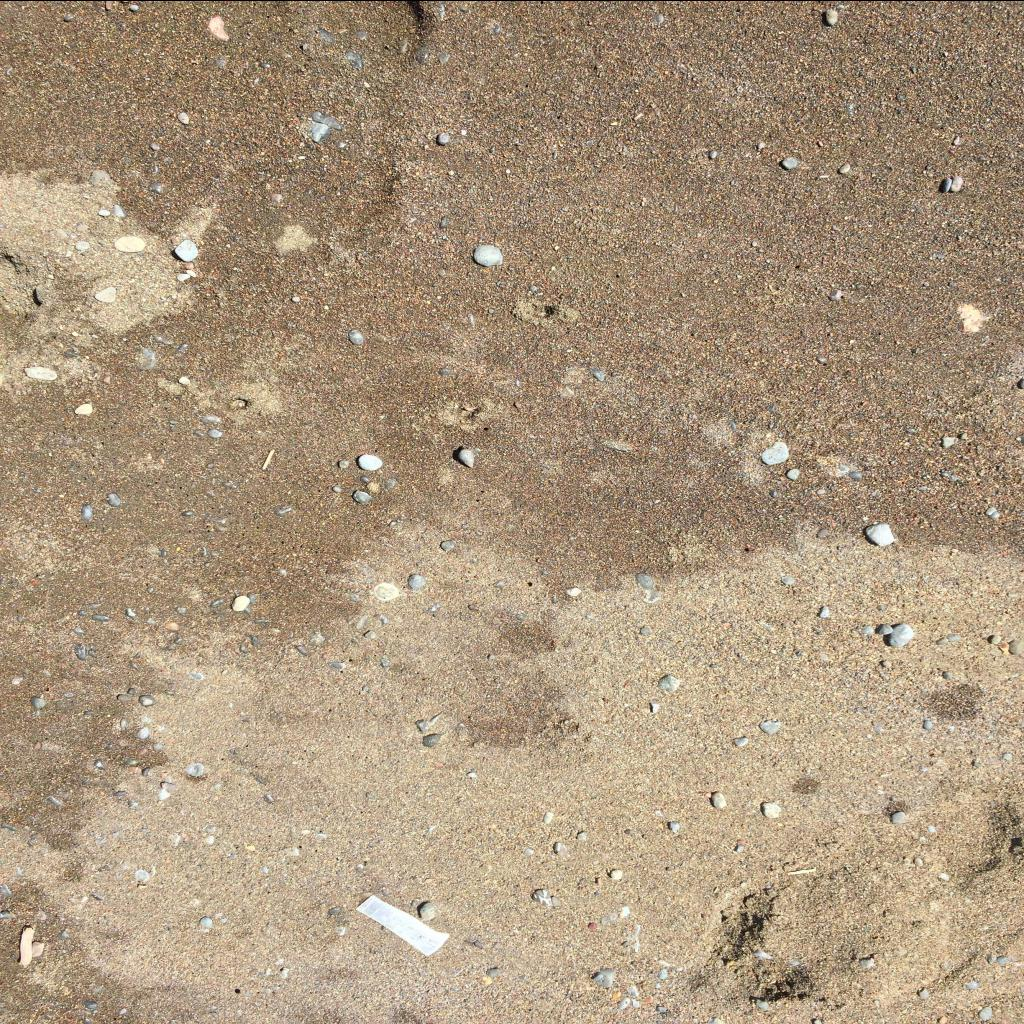Other plastic wrapper: (356, 894, 450, 955)
